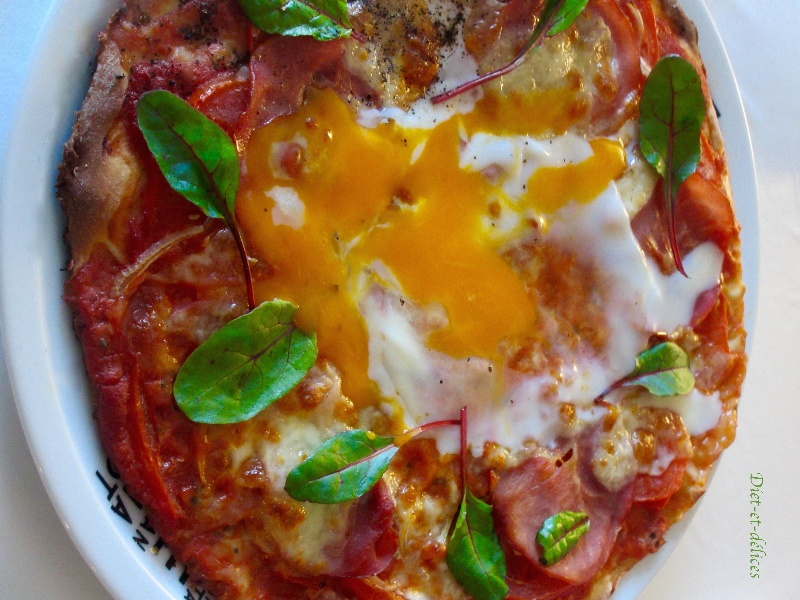oeuf: (361, 180, 557, 391)
